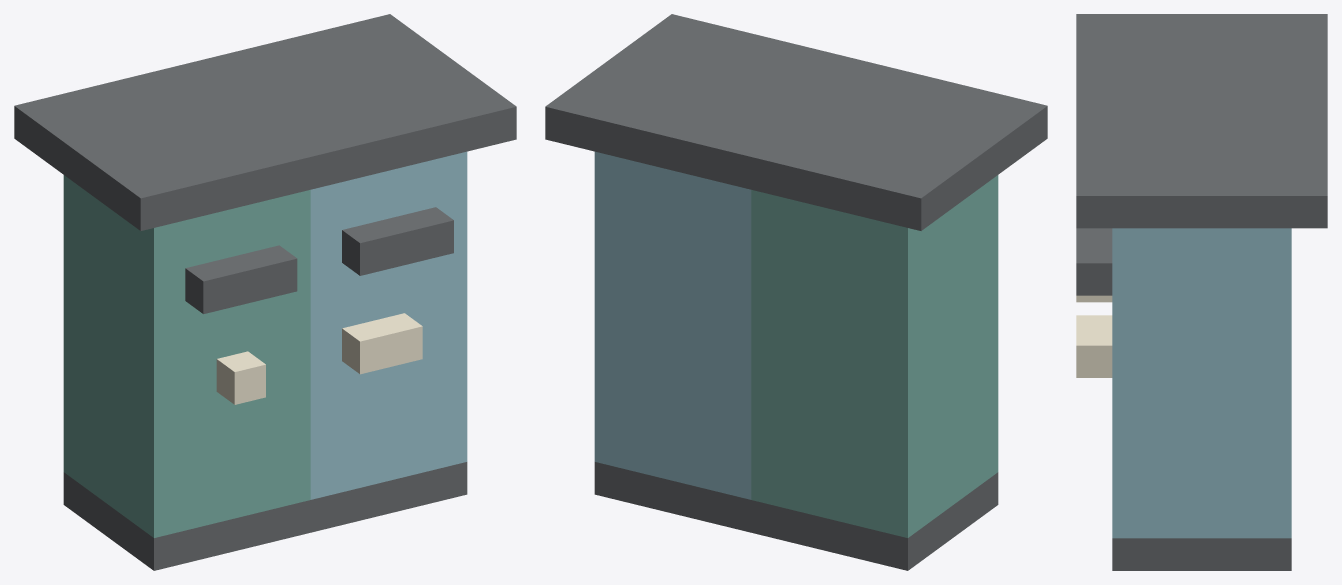
The model's file is pocket-borough-recycling-station__291.glb.
3 views of the same model, side by side, from view 1: azimuth 30°, elevation 25°; view 2: azimuth 150°, elevation 25°; view 3: azimuth 270°, elevation 25° (orthographic).
Parts seen in each view (by area): view 1: pocket-borough-recycling-station; view 2: pocket-borough-recycling-station; view 3: pocket-borough-recycling-station.
Part boxes in pixels (<box>): pocket-borough-recycling-station: <box>14,14,516,570</box>; pocket-borough-recycling-station: <box>545,14,1047,570</box>; pocket-borough-recycling-station: <box>1076,14,1327,570</box>.
Size of the model in its own units: 1.5 by 1.5 by 0.875.
